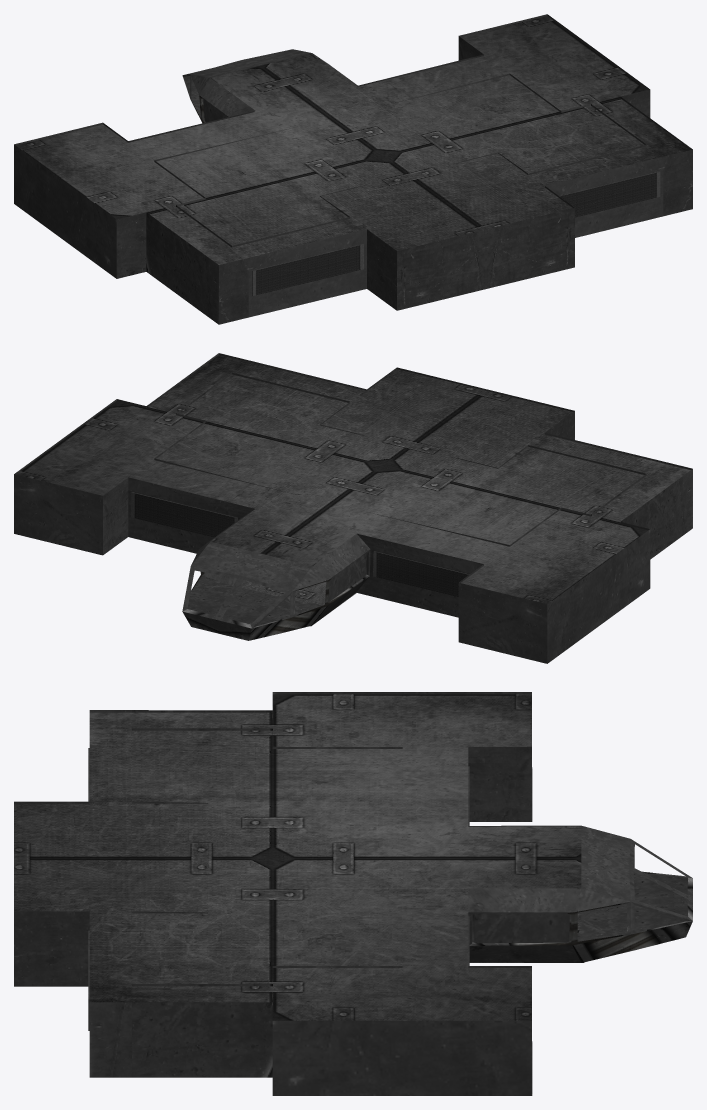
File: VR_SpacecraftV4.fbx
The picture shows the model from 3 angles, top to bottom: view 1: azimuth 30°, elevation 25°; view 2: azimuth 150°, elevation 25°; view 3: azimuth 270°, elevation 25°; orthographic projection. The views are drawn at different scales.
Parts seen in each view (by area): view 1: Ceiling, Wall, Wall.001; view 2: Ceiling, Wall, Wall.001, Floor.002; view 3: Ceiling, Wall.
Part boxes in pixels (box(x1,y1,x2,y2)): Ceiling: box(16, 16, 690, 264); Wall: box(14, 14, 692, 324); Wall.001: box(252, 172, 660, 295); Ceiling: box(16, 355, 690, 604); Wall: box(14, 353, 692, 663); Wall.001: box(131, 492, 468, 597); Floor.002: box(14, 533, 628, 663); Ceiling: box(14, 694, 581, 1020); Wall: box(14, 692, 692, 1095).
Bounding box in the file's own units: 2399 × 257 × 2094.
